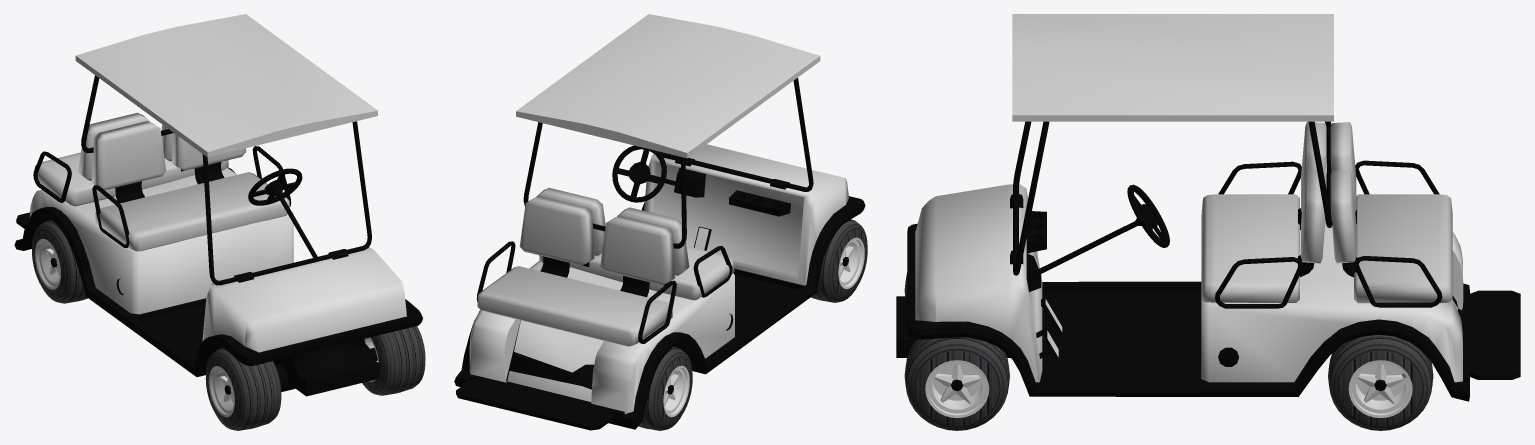
The model's file is golf_cart.glb.
3 renders of one model, left to right at view 1: azimuth 30°, elevation 25°; view 2: azimuth 150°, elevation 25°; view 3: azimuth 270°, elevation 25°, orthographic. The views are drawn at different scales.
Visible parts, largest first — view 1: Ceiling, Front seat, Hood, Rear hood, Floor, Rear seat, Frontal tire.001, Frontal tire, Ceiling support, Rear tire.001, Stering wheel, Frontal rim.001 (+4 smaller); view 2: Ceiling, Rear seat, Hood, Rear hood, Floor, Front seat, Foot support, Frontal tire.001, Rear tire.001, Stering wheel, Ceiling support, Ceiling support.001 (+6 smaller); view 3: Ceiling, Floor, Hood, Rear hood, Rear seat, Front seat, Frontal tire, Rear tire, Foot support, Rear rim, Frontal rim, Ceiling support (+7 smaller).
Part boxes in pixels (bbox=[...]): Ceiling: bbox=[75, 14, 377, 157]; Front seat: bbox=[92, 121, 289, 251]; Hood: bbox=[202, 247, 406, 352]; Rear hood: bbox=[29, 167, 293, 314]; Floor: bbox=[14, 167, 422, 396]; Rear seat: bbox=[34, 112, 228, 206]; Frontal tire.001: bbox=[205, 348, 281, 430]; Frontal tire: bbox=[362, 326, 425, 395]; Ceiling support: bbox=[202, 121, 371, 285]; Rear tire.001: bbox=[32, 220, 87, 303]; Stering wheel: bbox=[248, 168, 317, 257]; Frontal rim.001: bbox=[208, 366, 234, 417]; Ceiling: bbox=[516, 14, 820, 158]; Rear seat: bbox=[477, 196, 675, 346]; Hood: bbox=[644, 144, 848, 285]; Rear hood: bbox=[469, 261, 734, 413]; Floor: bbox=[454, 196, 865, 429]; Front seat: bbox=[536, 187, 734, 300]; Foot support: bbox=[456, 374, 624, 430]; Frontal tire.001: bbox=[811, 219, 867, 302]; Rear tire.001: bbox=[638, 346, 692, 430]; Stering wheel: bbox=[612, 145, 687, 202]; Ceiling support: bbox=[660, 78, 813, 191]; Ceiling support.001: bbox=[523, 122, 686, 248]; Ceiling: bbox=[1012, 14, 1333, 121]; Floor: bbox=[896, 223, 1469, 401]; Hood: bbox=[915, 184, 1042, 382]; Rear hood: bbox=[1201, 214, 1463, 382]; Rear seat: bbox=[1330, 122, 1452, 303]; Front seat: bbox=[1201, 122, 1326, 302]; Frontal tire: bbox=[904, 337, 1009, 430]; Rear tire: bbox=[1328, 334, 1433, 430]; Foot support: bbox=[1462, 288, 1520, 382]; Rear rim: bbox=[1348, 360, 1412, 417]; Frontal rim: bbox=[925, 360, 989, 417]; Ceiling support: bbox=[1010, 121, 1049, 275].
Size of the model in its own units: 3.39 by 4.56 by 8.03.
Materials: 7 (1 with a texture image).
